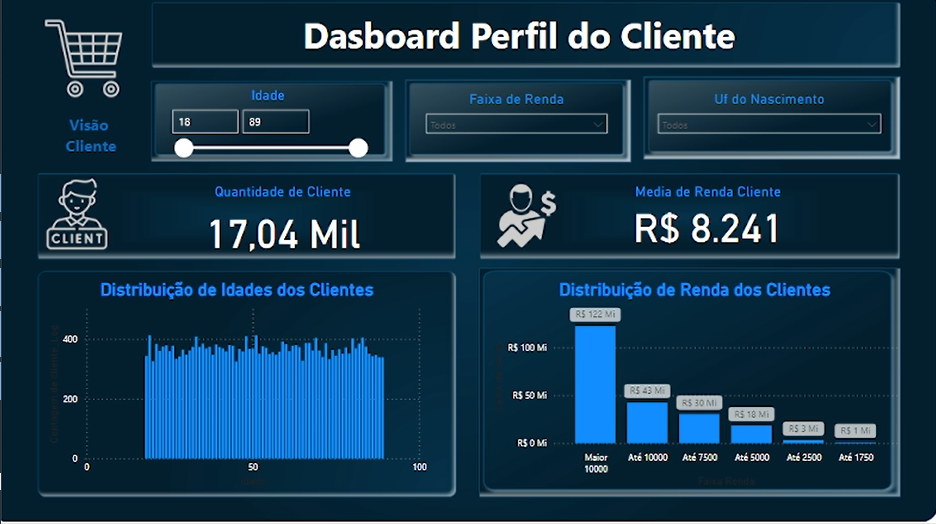

What the dashboard file says about the page in this screenshot:
{"tool":"powerbi","page":{"name":"Cliente","canvas":[1281,728],"ordinal":1},"visuals":[{"type":"card","title":"Quantidade de Cliente","fields":{"Values":["Base cliente.cliente_Log"]},"box":[199.2,258,372.6,103.2],"z":0},{"type":"card","title":"Media de Renda Cliente","fields":{"Values":["Base cliente.renda"]},"box":[758.1,258,418.5,87.4],"z":1000},{"type":"slicer","title":"Idade","fields":{"Values":["Base cliente.idade"]},"box":[222.1,126.1,288,108.9],"z":2000},{"type":"lineStackedColumnComboChart","title":"Distribuição de Renda dos Clientes","fields":{"Category":["Base cliente.Faixa Renda"],"Y":["Base cliente.renda"]},"box":[666.4,389.8,564.6,288],"z":3000},{"type":"slicer","title":"Faixa de Renda","fields":{"Values":["Base cliente.Faixa Renda"]},"box":[571.8,131.8,268,97.4],"z":4000},{"type":"lineStackedColumnComboChart","title":"Distribuição de Idades dos Clientes","fields":{"Category":["Base cliente.idade"],"Y":["Base cliente.cliente_Log"]},"box":[58.8,389.8,528.8,288],"z":5000},{"type":"slicer","title":"Uf do Nascimento","fields":{"Values":["Base cliente.uf_nascimento"]},"box":[887.9,131.3,325.5,97.1],"z":6000},{"type":"textbox","box":[154.8,17.2,1106.3,81.7],"z":7000},{"type":"textbox","box":[33.3,159.4,173.3,70.7],"z":8000}]}

Visuals, with their boxes in screenshot pixels (x1, y1, x2, y2), scaled from the page's 1281x728 canvas onto the 936x524 screenshot:
"Quantidade de Cliente" card: left=146, top=186, right=418, bottom=260
"Media de Renda Cliente" card: left=554, top=186, right=860, bottom=249
"Idade" slicer: left=162, top=91, right=373, bottom=169
"Distribuição de Renda dos Clientes" lineStackedColumnComboChart: left=487, top=281, right=899, bottom=488
"Faixa de Renda" slicer: left=418, top=95, right=614, bottom=165
"Distribuição de Idades dos Clientes" lineStackedColumnComboChart: left=43, top=281, right=429, bottom=488
"Uf do Nascimento" slicer: left=649, top=95, right=887, bottom=164
textbox: left=113, top=12, right=921, bottom=71
textbox: left=24, top=115, right=151, bottom=166
